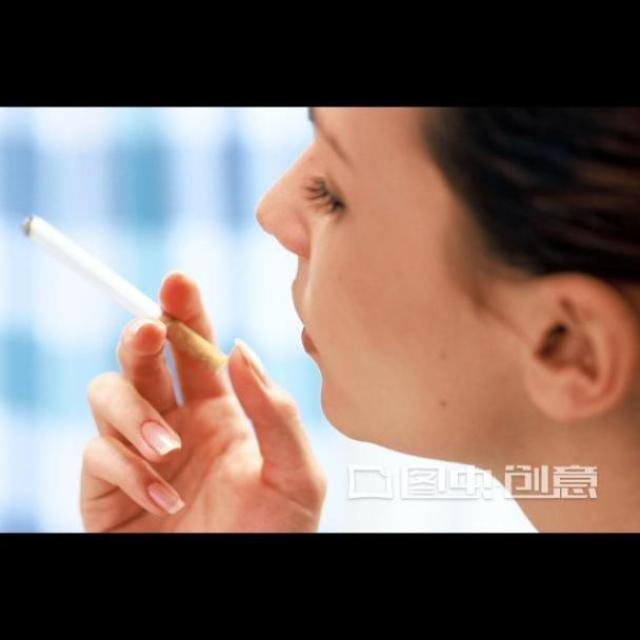rokok: (18, 211, 228, 379)
